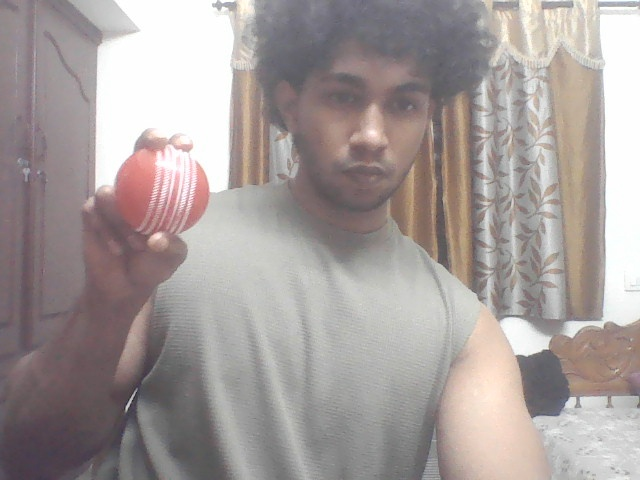cricket_ball: (109, 148, 215, 234)
